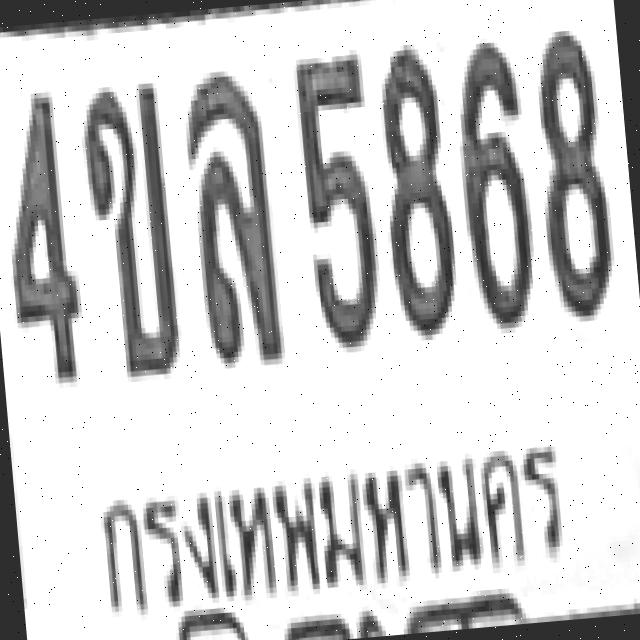11KhorKhai: (76, 80, 181, 376)
4: (0, 85, 84, 386)
5: (290, 51, 384, 352)
6: (449, 36, 536, 330)
8: (527, 25, 617, 321), (372, 44, 459, 340)
Bangkok: (88, 430, 578, 618)
